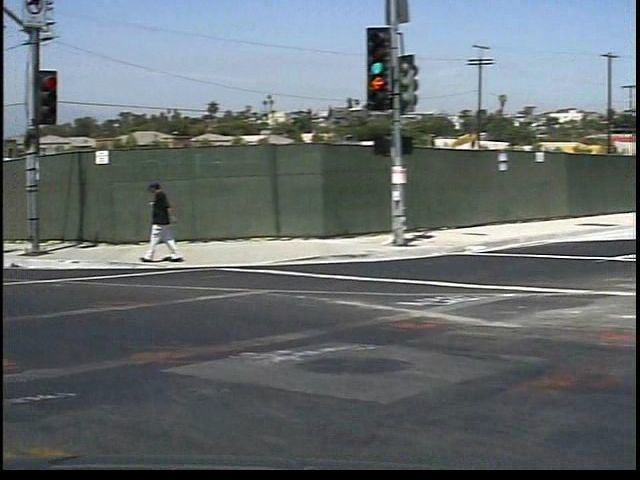person: (129, 176, 176, 278)
